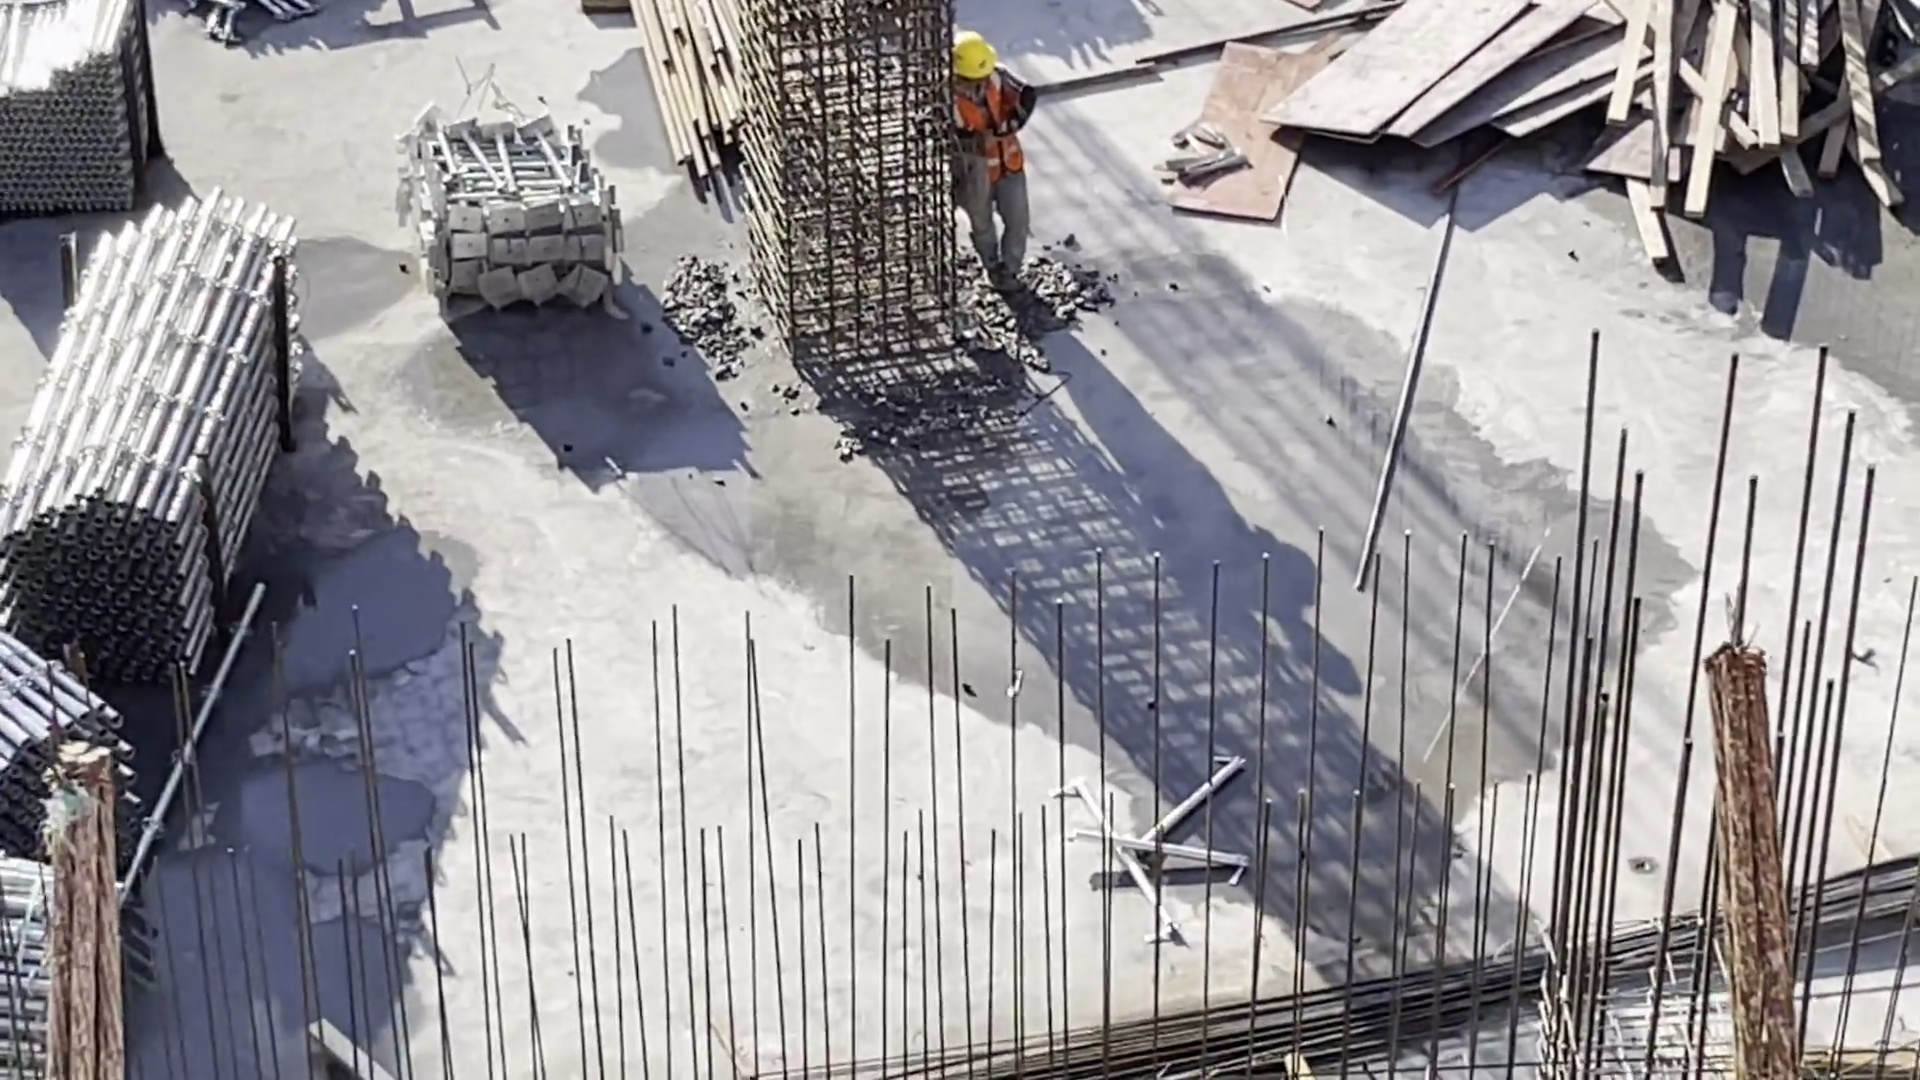board: (1273, 4, 1620, 164)
helmet: (947, 32, 1004, 80)
person: (926, 30, 1060, 315)
rebar: (986, 856, 1919, 1080)
scaffold: (14, 211, 290, 680), (385, 104, 659, 313), (1, 653, 190, 945), (1, 7, 166, 218)
vest: (946, 75, 1029, 172)
wood: (1620, 4, 1904, 241)
